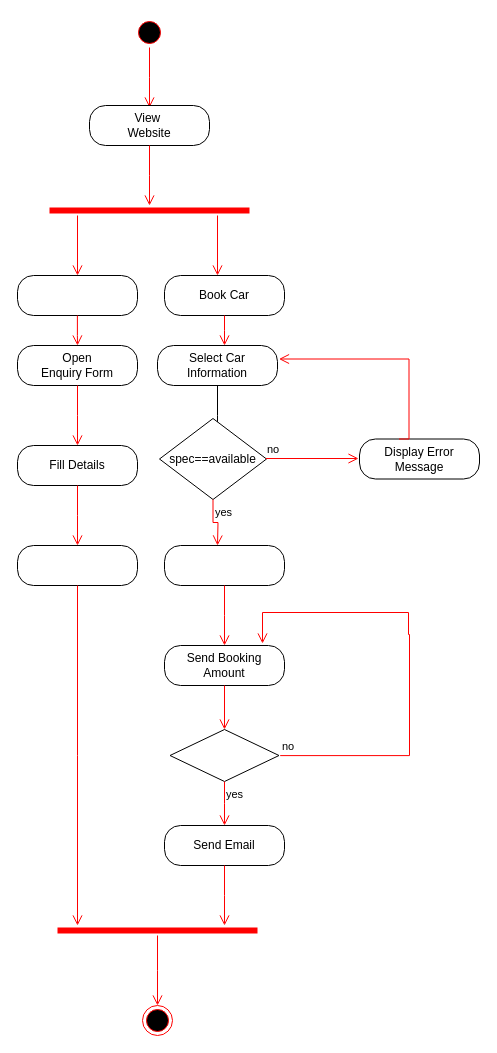
Some shapes in this 497 by 1053 pixel diagram are drawn without their labels. Here are the shapes that lost their labels. From the top down, the centre of each, then its label:
At (x=77, y=295): "Enquiry".
At (x=77, y=565): "Send email Notification".
At (x=224, y=565): "Record Booking Detail".
At (x=224, y=755): "amount=valid".
